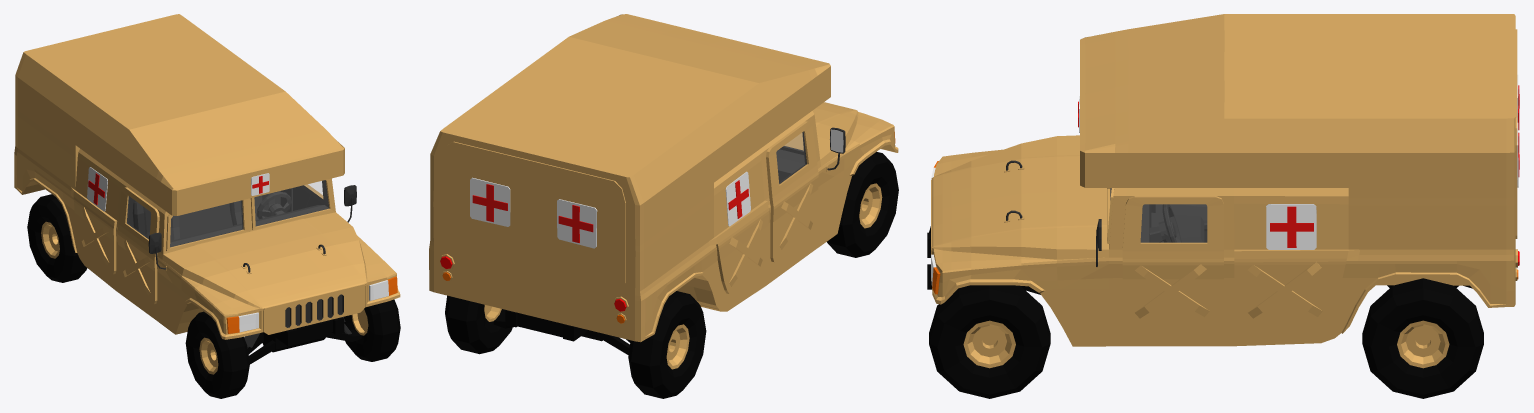
3 renders of one model, left to right at view 1: azimuth 30°, elevation 25°; view 2: azimuth 150°, elevation 25°; view 3: azimuth 270°, elevation 25°, orthographic. The views are drawn at different scales.
Visible parts, largest first — view 1: Plane, Plane.001, Plane.002, Cylinder.002, Plane.009, Cylinder.001, Cylinder, Plane.004; view 2: Plane, Plane.005, Plane.003, Plane.009, Cylinder.001, Cylinder.002, Cylinder.003, Plane.001; view 3: Plane, Plane.004, Cylinder.003, Cylinder, Plane.001, Plane.003.
Part boxes in pixels (x1=…): Plane: x1=14, y1=14, x2=400, y2=364; Plane.001: x1=128, y1=180, x2=329, y2=247; Plane.002: x1=170, y1=181, x2=328, y2=246; Cylinder.002: x1=185, y1=311, x2=249, y2=398; Plane.009: x1=117, y1=187, x2=159, y2=304; Cylinder.001: x1=27, y1=194, x2=87, y2=282; Cylinder: x1=343, y1=299, x2=400, y2=361; Plane.004: x1=293, y1=180, x2=327, y2=210; Plane: x1=429, y1=14, x2=898, y2=355; Plane.005: x1=534, y1=161, x2=625, y2=287; Plane.003: x1=442, y1=141, x2=533, y2=266; Plane.009: x1=766, y1=121, x2=818, y2=262; Cylinder.001: x1=628, y1=291, x2=706, y2=398; Cylinder.002: x1=827, y1=152, x2=898, y2=257; Cylinder.003: x1=445, y1=295, x2=512, y2=354; Plane.001: x1=776, y1=146, x2=804, y2=182; Plane: x1=927, y1=14, x2=1519, y2=346; Plane.004: x1=1122, y1=196, x2=1223, y2=326; Cylinder.003: x1=1362, y1=278, x2=1483, y2=398; Cylinder: x1=929, y1=285, x2=1050, y2=398; Plane.001: x1=1110, y1=188, x2=1207, y2=242; Plane.003: x1=1515, y1=73, x2=1519, y2=238.
Size of the model in its own units: 242 by 226 by 438.
